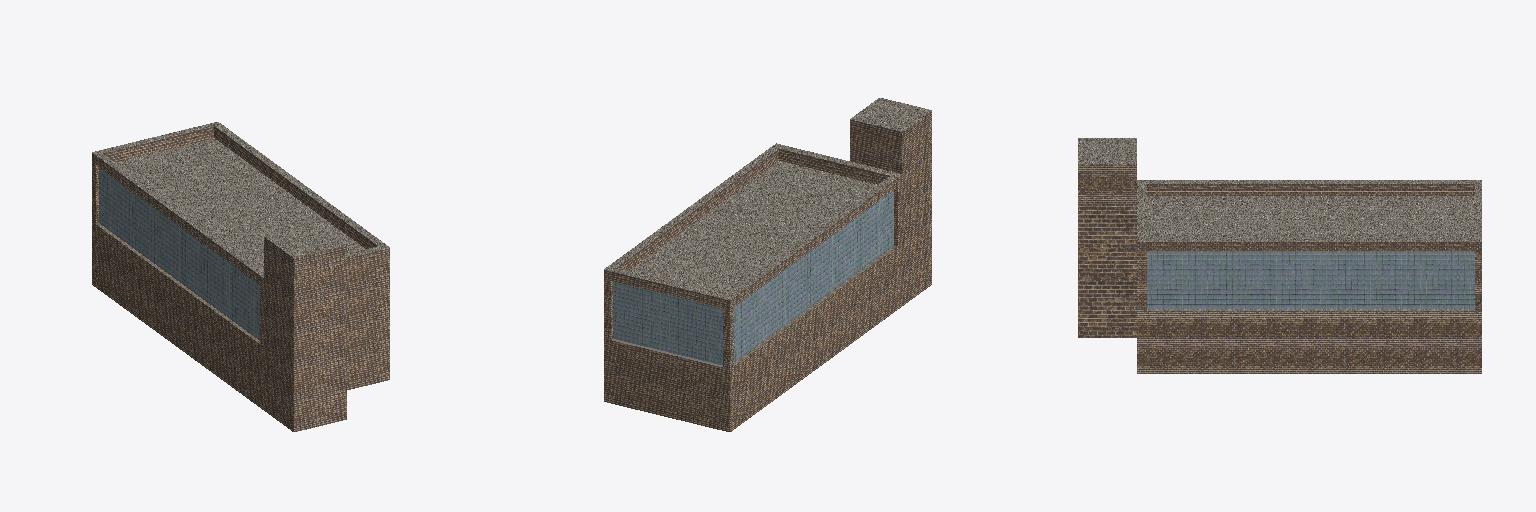
The picture shows the model from 3 angles: view 1: azimuth 30°, elevation 25°; view 2: azimuth 150°, elevation 25°; view 3: azimuth 270°, elevation 25°; orthographic projection.
Parts seen in each view (by area): view 1: Fabrik; view 2: Fabrik; view 3: Fabrik.
Part boxes in pixels (left/top/right/bottom): Fabrik: left=92, top=122, right=389, bottom=431; Fabrik: left=604, top=98, right=931, bottom=431; Fabrik: left=1078, top=138, right=1481, bottom=373.
Size of the model in its own units: 22 by 29 by 61.
6 materials, 4 textured.